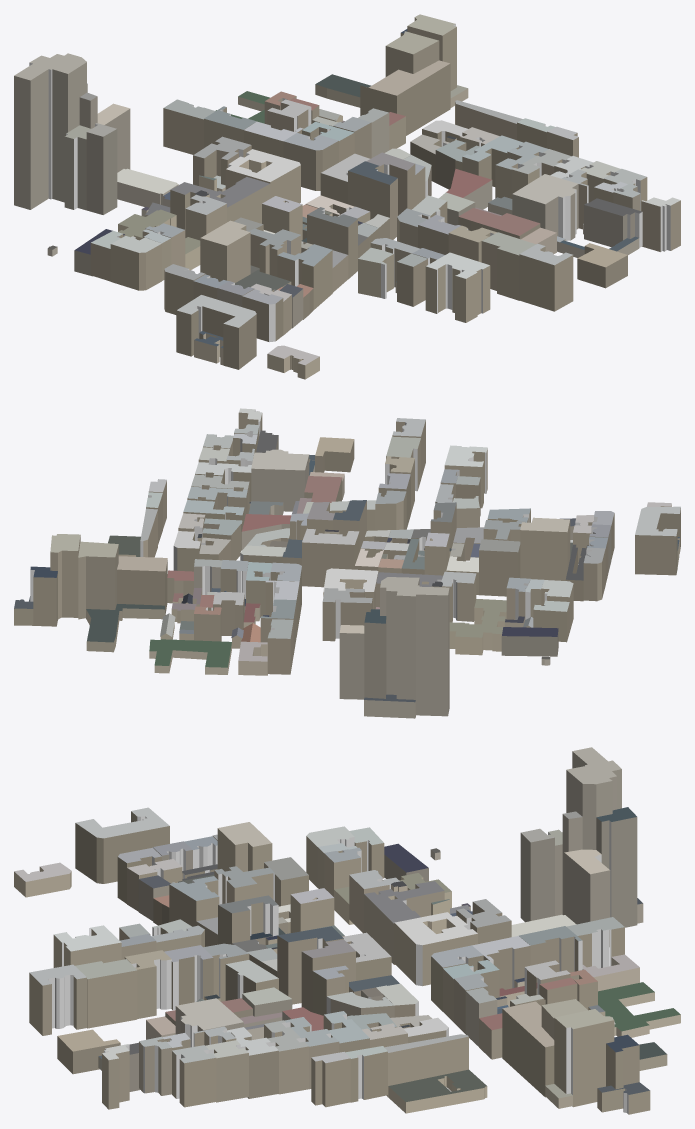
3 views of the same model, one above another, from view 1: azimuth 30°, elevation 25°; view 2: azimuth 150°, elevation 25°; view 3: azimuth 270°, elevation 25° (orthographic). The views are drawn at different scales.
Visible parts, largest first — view 1: tuile; view 2: tuile; view 3: tuile.
Part boxes in pixels (x1,y1,x2,y2): tuile: [14, 14, 680, 379]; tuile: [14, 408, 680, 718]; tuile: [14, 747, 680, 1114].
Bounding box in the file's own units: 255 × 65.52 × 277.
